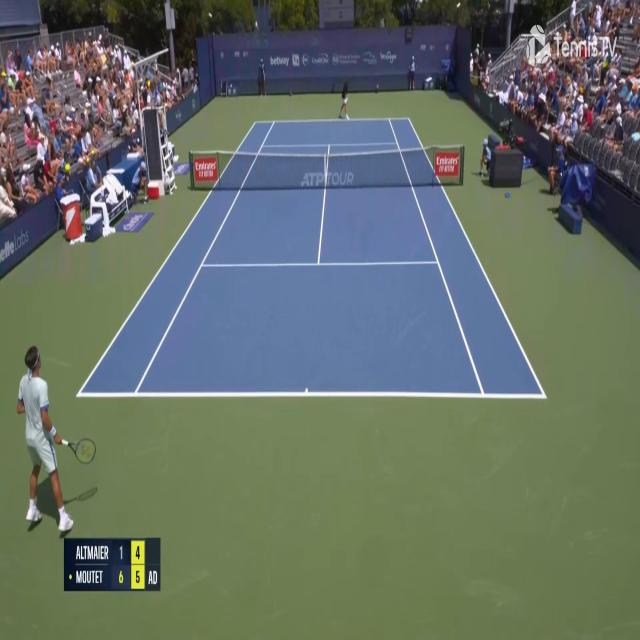tennis-player: (14, 338, 96, 540), (337, 74, 351, 122)
